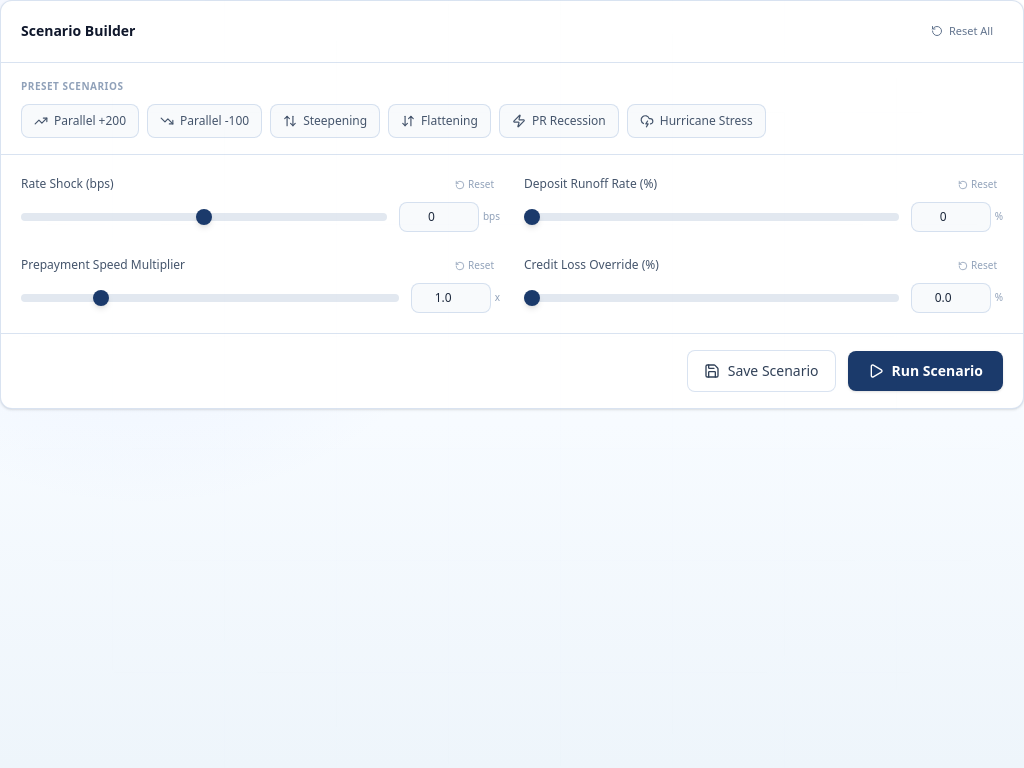
Scenario: ScenarioInput › save dialog › opens save dialog when clicking Save
The image size is (1024, 768).
Click the button "Save Scenario" at (761, 370), box [687, 350, 836, 392]
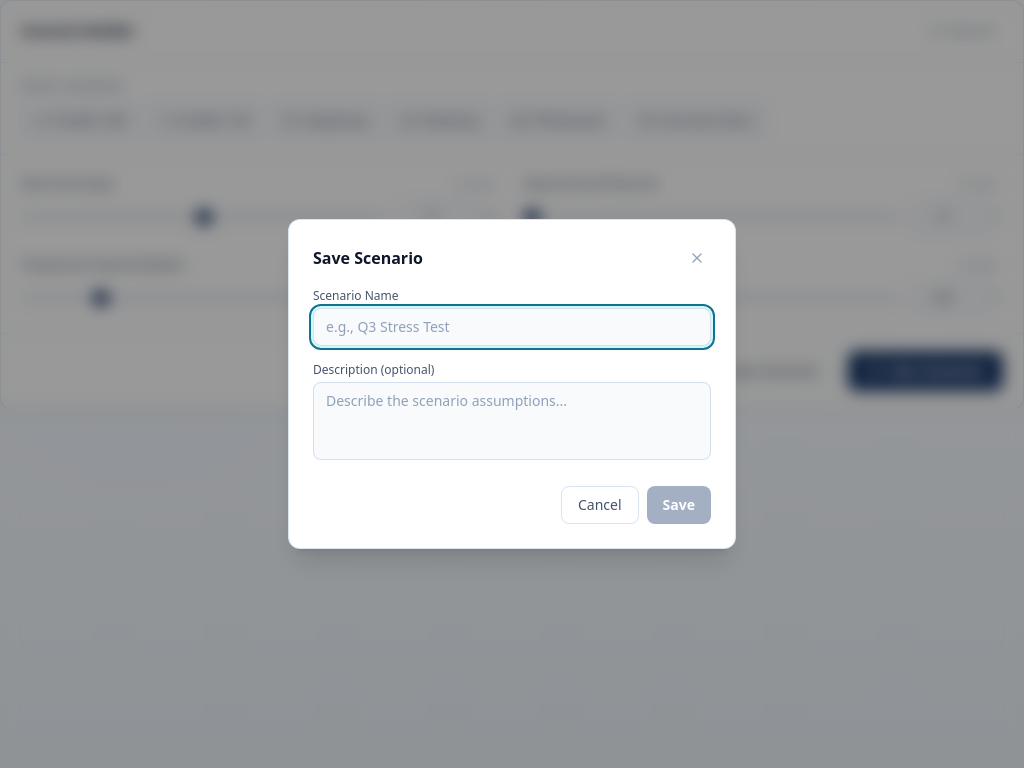
Now the dialog is shown, box [288, 219, 736, 549]
